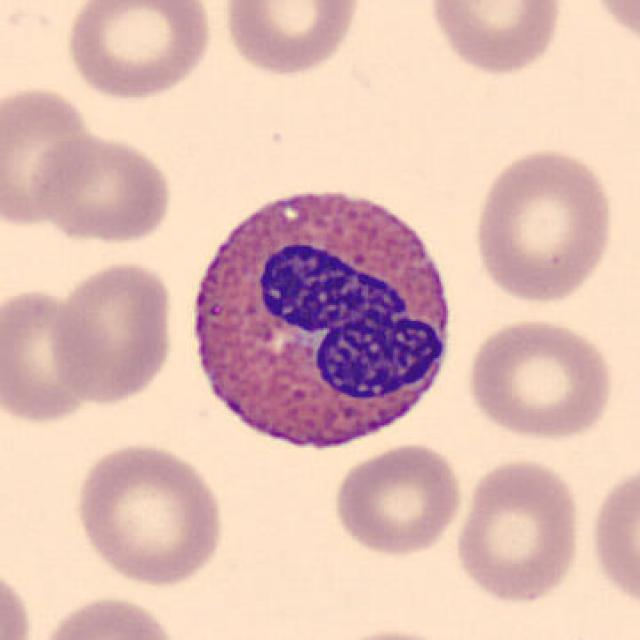Eosinophil: (174, 166, 462, 470)
RBC: (70, 437, 230, 591), (469, 143, 619, 307), (449, 455, 586, 606), (462, 314, 617, 444), (46, 258, 178, 408), (25, 130, 176, 247), (329, 439, 466, 559), (60, 0, 217, 104), (0, 282, 105, 427), (0, 81, 98, 229), (218, 0, 362, 79), (423, 0, 567, 78), (587, 458, 638, 616), (33, 590, 183, 640), (0, 557, 37, 640), (583, 0, 640, 53), (315, 624, 469, 640)
